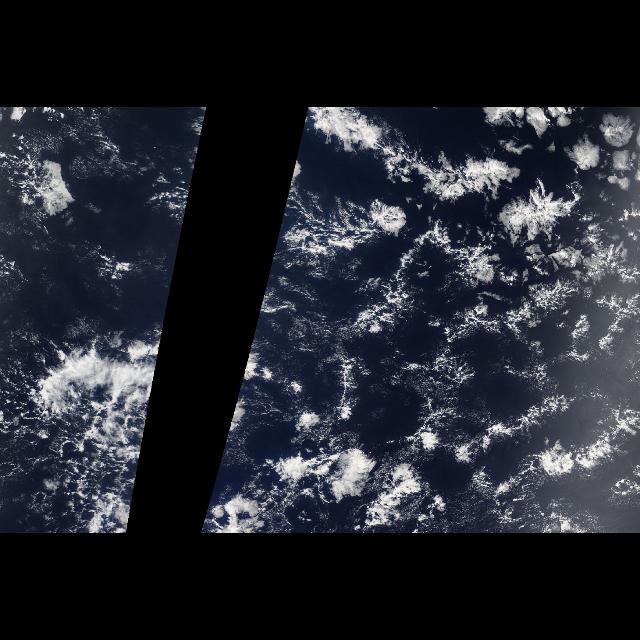Fish: (280, 109, 520, 248)
Flower: (276, 107, 640, 533)
Gravel: (10, 323, 150, 525)
